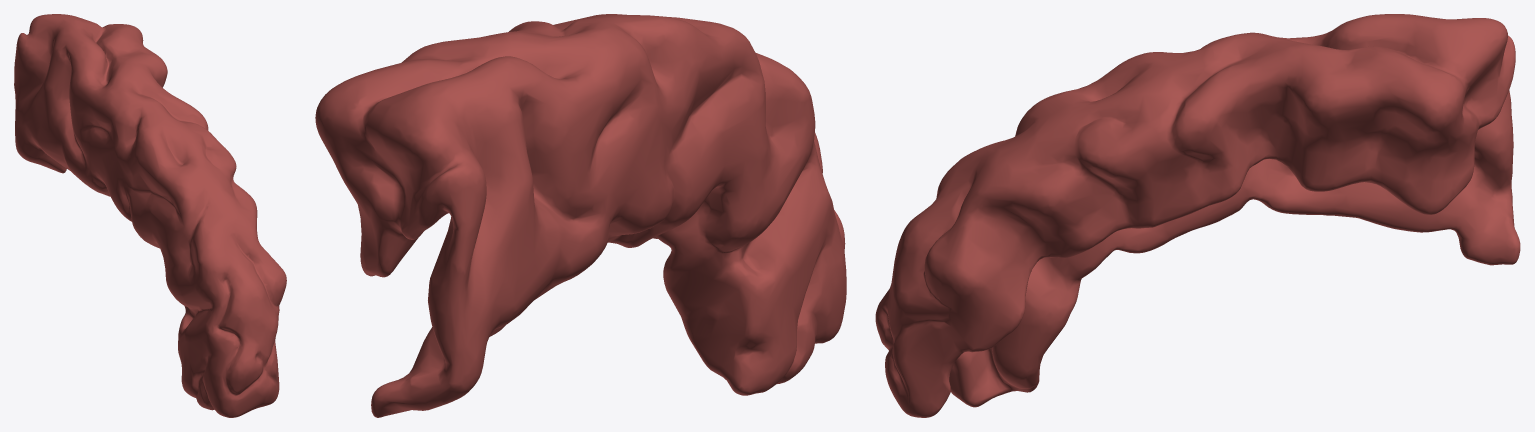
Rendered from FMA72654.glb.
The picture shows the model from 3 angles, left to right: view 1: azimuth 30°, elevation 25°; view 2: azimuth 150°, elevation 25°; view 3: azimuth 270°, elevation 25°; orthographic projection. The views are drawn at different scales.
Visible parts, largest first — view 1: FMA72654; view 2: FMA72654; view 3: FMA72654.
Boxes of the visible parts, left/top/right/bottom form: FMA72654: left=14, top=14, right=286, bottom=417; FMA72654: left=315, top=14, right=846, bottom=417; FMA72654: left=875, top=14, right=1520, bottom=417.
Bounding box in the file's own units: 0.0302 × 0.0742 × 0.1096.
